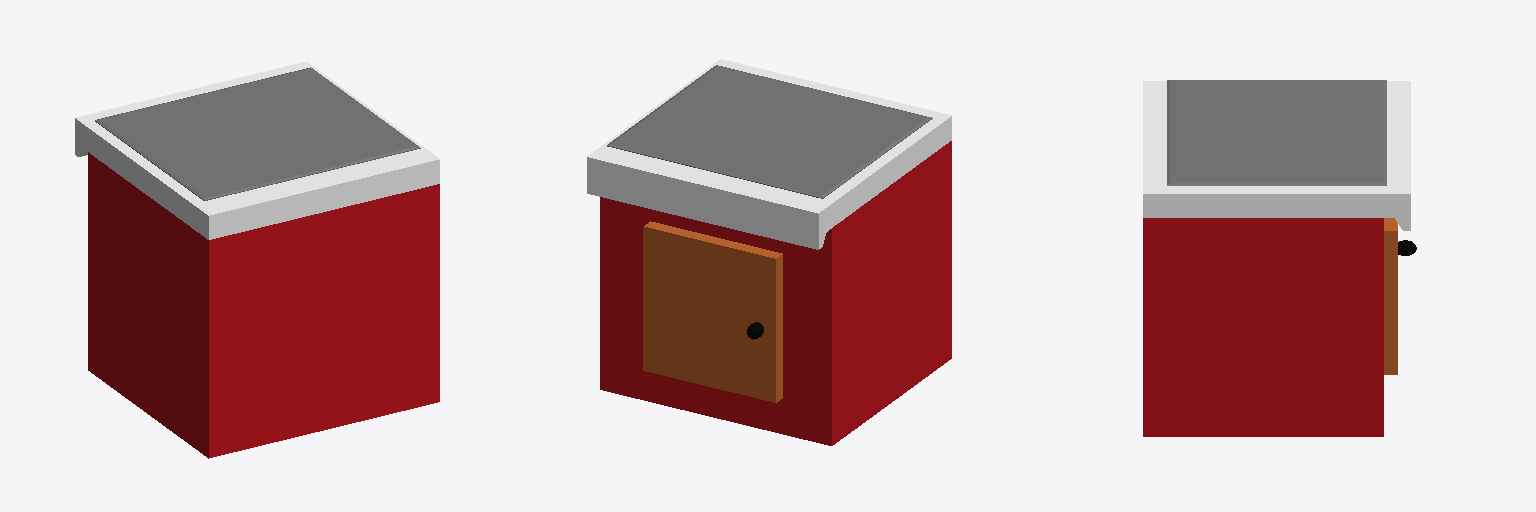
File: cuttingStand.obj
The picture shows the model from 3 angles: view 1: azimuth 30°, elevation 25°; view 2: azimuth 150°, elevation 25°; view 3: azimuth 270°, elevation 25°; orthographic projection.
Visible parts, largest first — view 1: Hob1_Malla.001; view 2: Hob1_Malla.001; view 3: Hob1_Malla.001.
Part boxes in pixels (x1,y1,x2,y2): Hob1_Malla.001: (75,61,439,458); Hob1_Malla.001: (587,59,951,445); Hob1_Malla.001: (1143,80,1416,436).
Bounding box in the file's own units: 12.5 × 12.78 × 12.79.